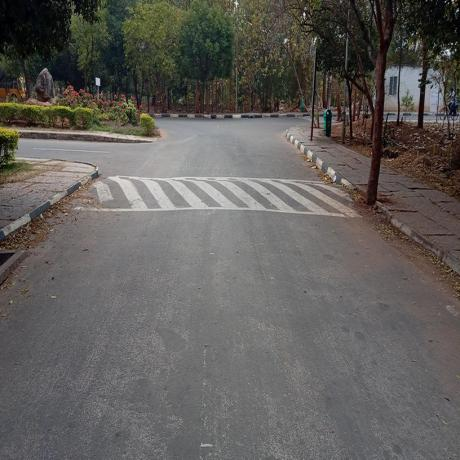Speed Bump: (81, 175, 357, 216)
